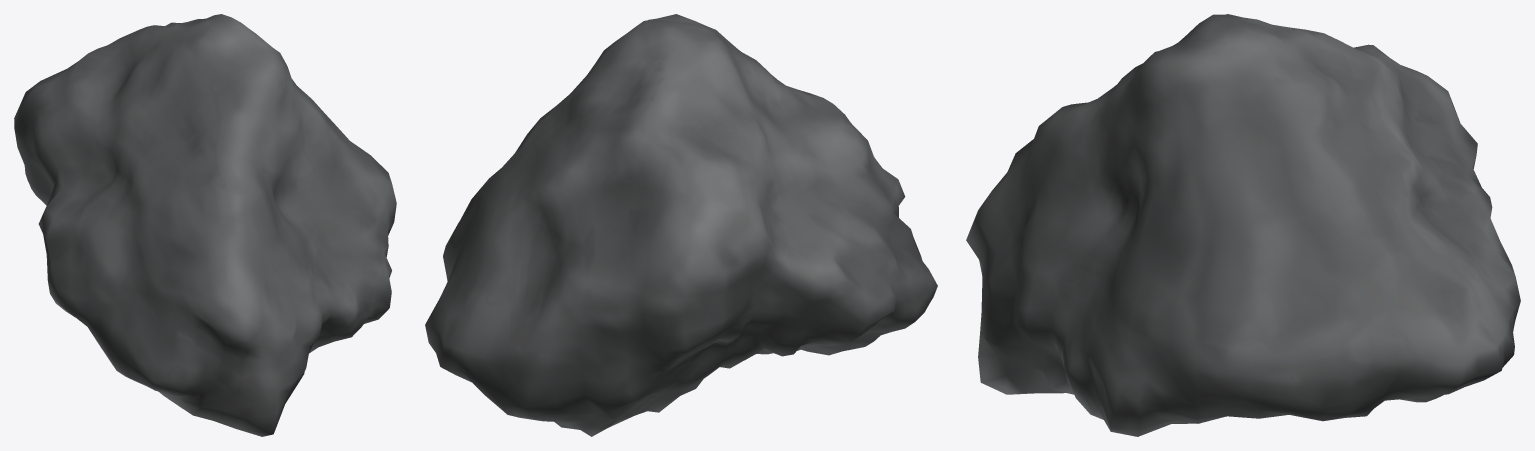
The model's file is 03_Rock1_02.fbx.
3 views of the same model, side by side, from view 1: azimuth 30°, elevation 25°; view 2: azimuth 150°, elevation 25°; view 3: azimuth 270°, elevation 25° (orthographic). The views are drawn at different scales.
Parts seen in each view (by area): view 1: Cube; view 2: Cube; view 3: Cube.
Part boxes in pixels (<box>): Cube: <box>14,14,396,436</box>; Cube: <box>425,14,937,436</box>; Cube: <box>966,14,1520,436</box>.
Bounding box in the file's own units: 37.08 × 34.38 × 42.91.
Materials: 1 (1 with a texture image).
